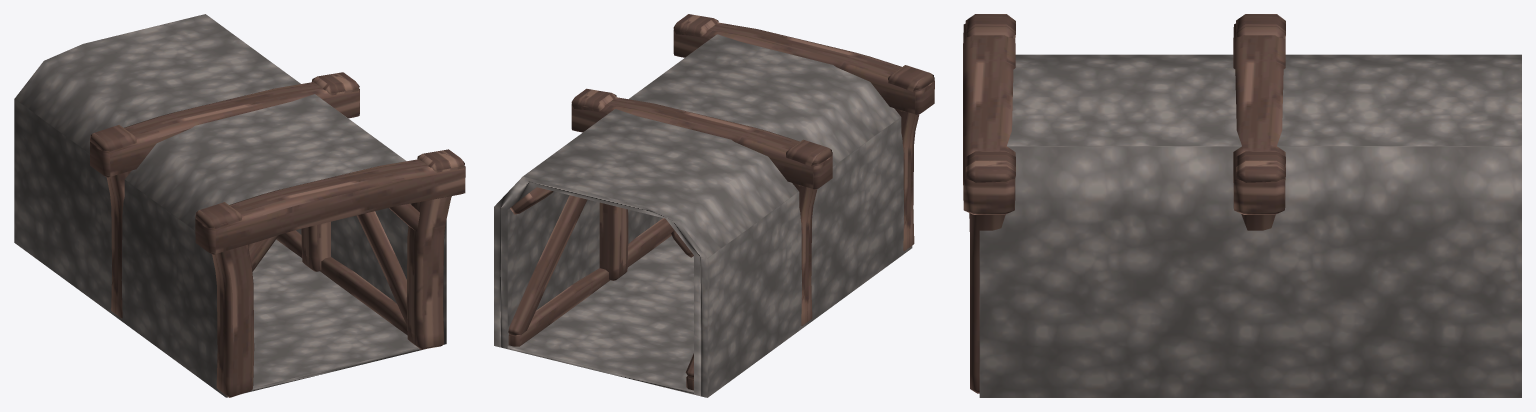
Rendered from SM_mine_module_05.glb.
The picture shows the model from 3 angles, left to right: view 1: azimuth 30°, elevation 25°; view 2: azimuth 150°, elevation 25°; view 3: azimuth 270°, elevation 25°; orthographic projection. The views are drawn at different scales.
Visible parts, largest first — view 1: SM_mine_module_05; view 2: SM_mine_module_05; view 3: SM_mine_module_05.
Part boxes in pixels (x1,y1,x2,y2): SM_mine_module_05: (14,14,465,397); SM_mine_module_05: (494,14,934,397); SM_mine_module_05: (963,14,1521,397).
Size of the model in its own units: 7.36 by 5.15 by 10.75.
Materials: 2 (2 with a texture image).
